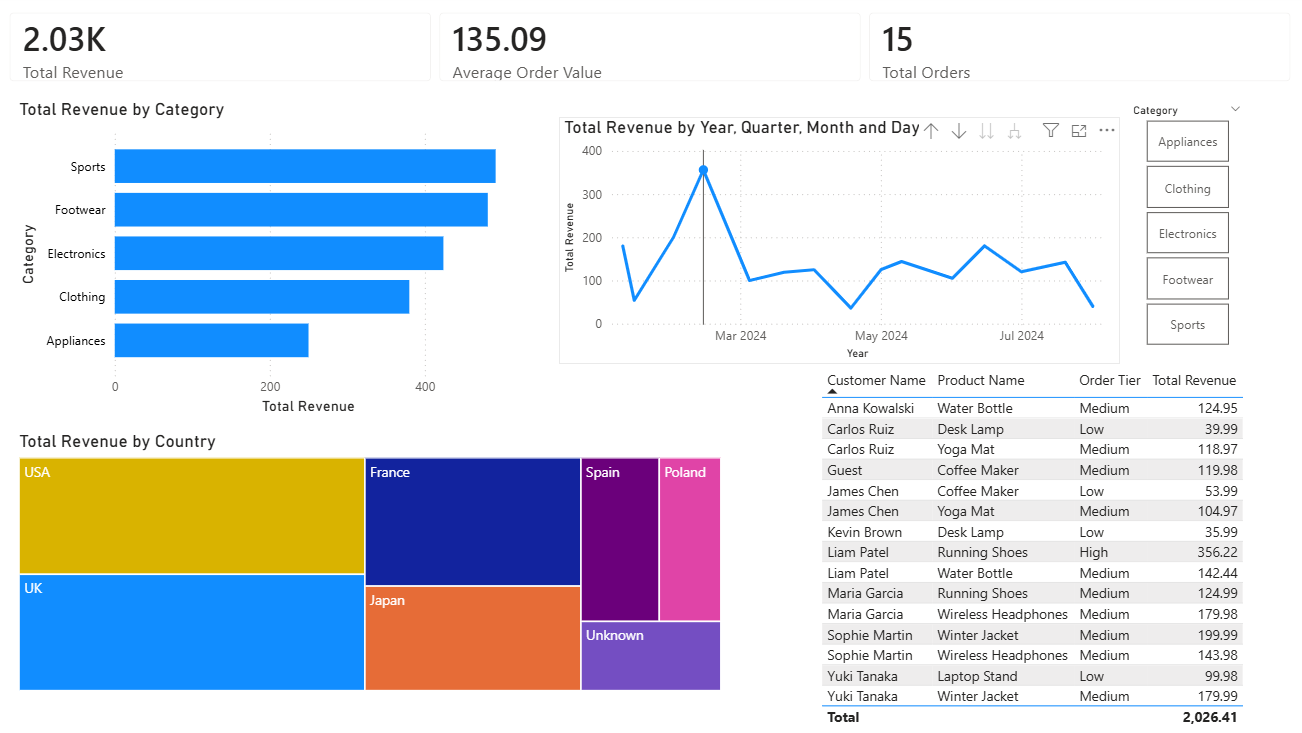

Layout of this report page (visuals, bound fields, positions):
{"tool":"powerbi","page":{"name":"Page 1","canvas":[1280,720],"ordinal":0},"visuals":[{"type":"tableEx","fields":{"Values":["sales_dashboard.customer_name","sales_dashboard.product_name","sales_dashboard.order_tier","Sum(sales_dashboard.revenue)"]},"box":[801.2,358.8,426.2,361.2],"z":0},{"type":"slicer","fields":{"Values":["sales_dashboard.category"]},"box":[1097.5,101.2,130,246.2],"z":1000},{"type":"cardVisual","fields":{"Data":["sales_dashboard.Total Revenue","sales_dashboard.Average Order Value","sales_dashboard.Total Orders"]},"box":[0,0,1280,101.2],"z":2000},{"type":"clusteredBarChart","fields":{"Category":["sales_dashboard.category"],"Y":["Sum(sales_dashboard.revenue)"]},"box":[21.2,101.2,490,311.2],"z":3000},{"type":"lineChart","fields":{"Y":["sales_dashboard.Total Revenue"],"Category":["sales_dashboard.order_date.Variation.Date Hierarchy.Year","sales_dashboard.order_date.Variation.Date Hierarchy.Quarter","sales_dashboard.order_date.Variation.Date Hierarchy.Month","sales_dashboard.order_date.Variation.Date Hierarchy.Day"]},"box":[551.2,118.8,546.2,240],"z":4000},{"type":"treemap","fields":{"Group":["sales_dashboard.country"],"Values":["Sum(sales_dashboard.revenue)"]},"box":[21.2,423.8,692.5,257.5],"z":5000}]}

Visuals, with their boxes in screenshot pixels (x1, y1, x2, y2), scaled from the page's 1280x720 canvas onto the 1302x733 screenshot:
tableEx - sales_dashboard.customer_name x sales_dashboard.product_name: 815, 365, 1248, 732
slicer - sales_dashboard.category: 1116, 103, 1249, 354
cardVisual - sales_dashboard.Total Revenue x sales_dashboard.Average Order Value: 0, 0, 1301, 103
clusteredBarChart - sales_dashboard.category x Sum(sales_dashboard.revenue): 22, 103, 520, 420
lineChart - sales_dashboard.Total Revenue x sales_dashboard.order_date.Variation.Date Hierarchy.Year: 561, 121, 1116, 365
treemap - sales_dashboard.country x Sum(sales_dashboard.revenue): 22, 431, 726, 694
